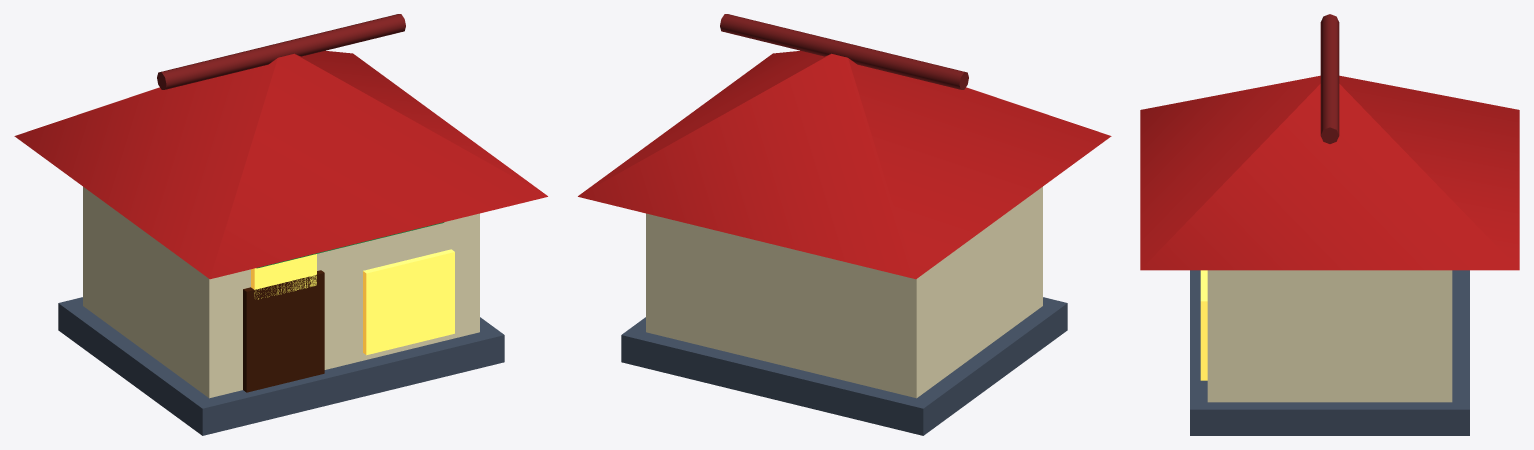
Rendered from building_c1.glb.
The picture shows the model from 3 angles, left to right: view 1: azimuth 30°, elevation 25°; view 2: azimuth 150°, elevation 25°; view 3: azimuth 270°, elevation 25°; orthographic projection. The views are drawn at different scales.
Visible parts, largest first — view 1: BuildingC1; view 2: BuildingC1; view 3: BuildingC1.
Boxes of the visible parts, box(x1,y1,x2,y2) form: BuildingC1: box(14, 14, 547, 435); BuildingC1: box(578, 14, 1111, 435); BuildingC1: box(1140, 14, 1519, 435).
Bounding box in the file's own units: 0.6505 × 0.556 × 0.6505.
